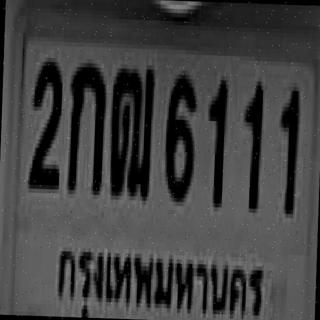A01: (65, 58, 106, 191)
A18: (108, 64, 153, 196)
N01: (276, 82, 299, 210), (240, 77, 262, 209), (204, 75, 226, 204)
N02: (26, 55, 62, 187)
N06: (162, 70, 196, 198)
P04: (50, 230, 266, 320)
